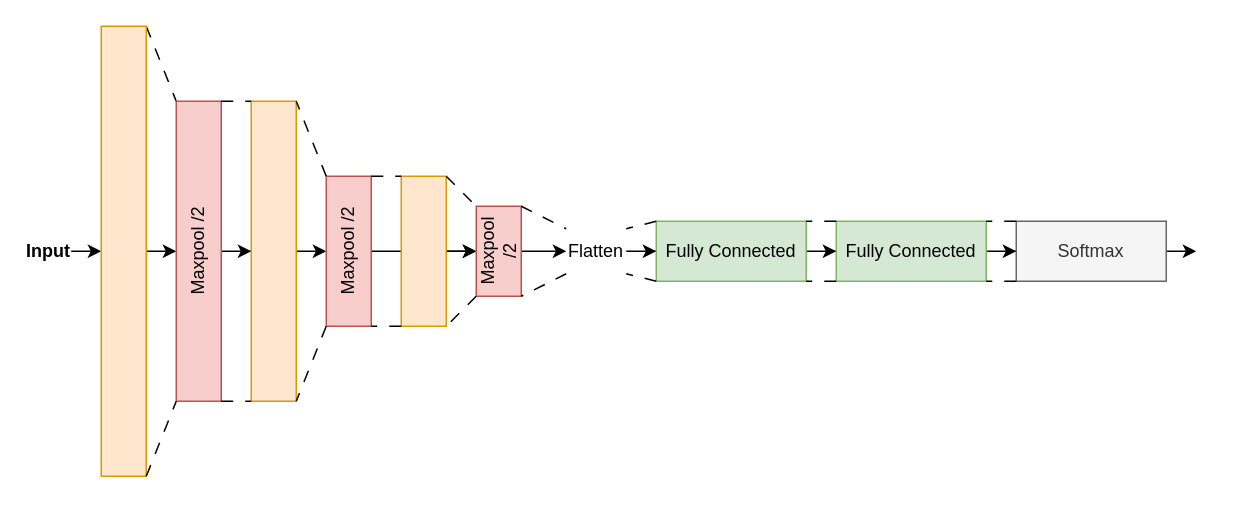
The diagram is 1235 pixels wide and 506 high, and some of its shapes have lost their labels. The shapes that lost their labels are listed below. From the top down, each one's centre as x and y in pixels, then its label:
(x=123, y=250): Conv 5x5 32
(x=273, y=250): Conv 3x3 64
(x=423, y=250): Conv 3x3 128
